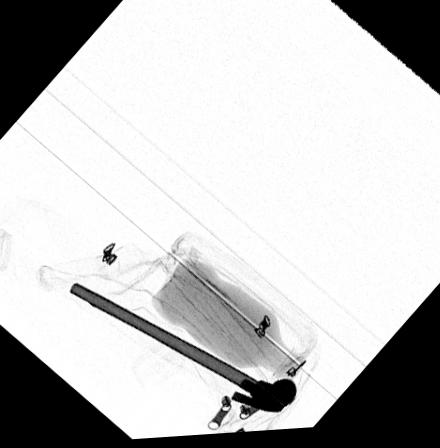Hammer: (68, 281, 296, 415)
